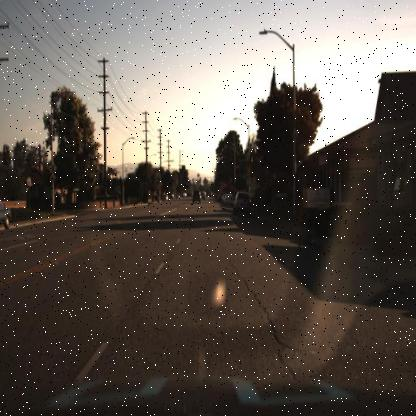car: (231, 187, 254, 217), (188, 186, 204, 205), (221, 191, 232, 207)
